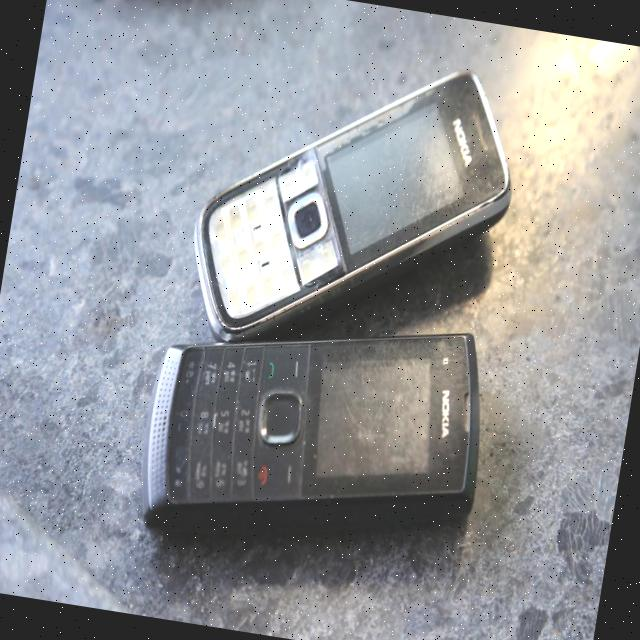Phone: (174, 27, 530, 380), (128, 280, 502, 578)
